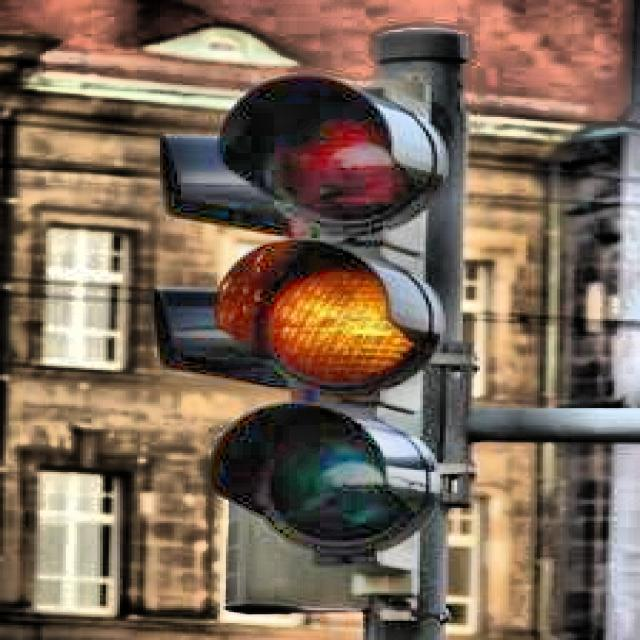yellow: (219, 100, 437, 551)
